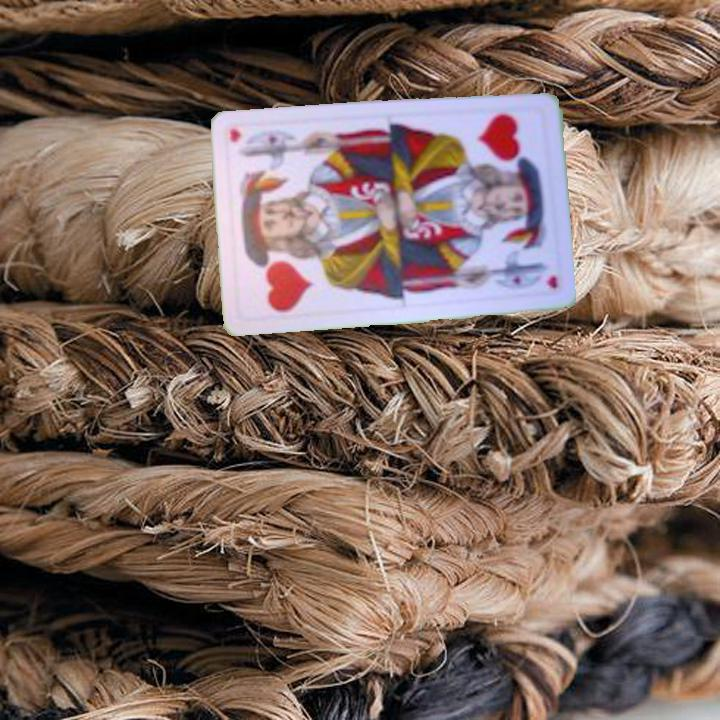h_j.png: (460, 103, 553, 209), (232, 214, 324, 320)
